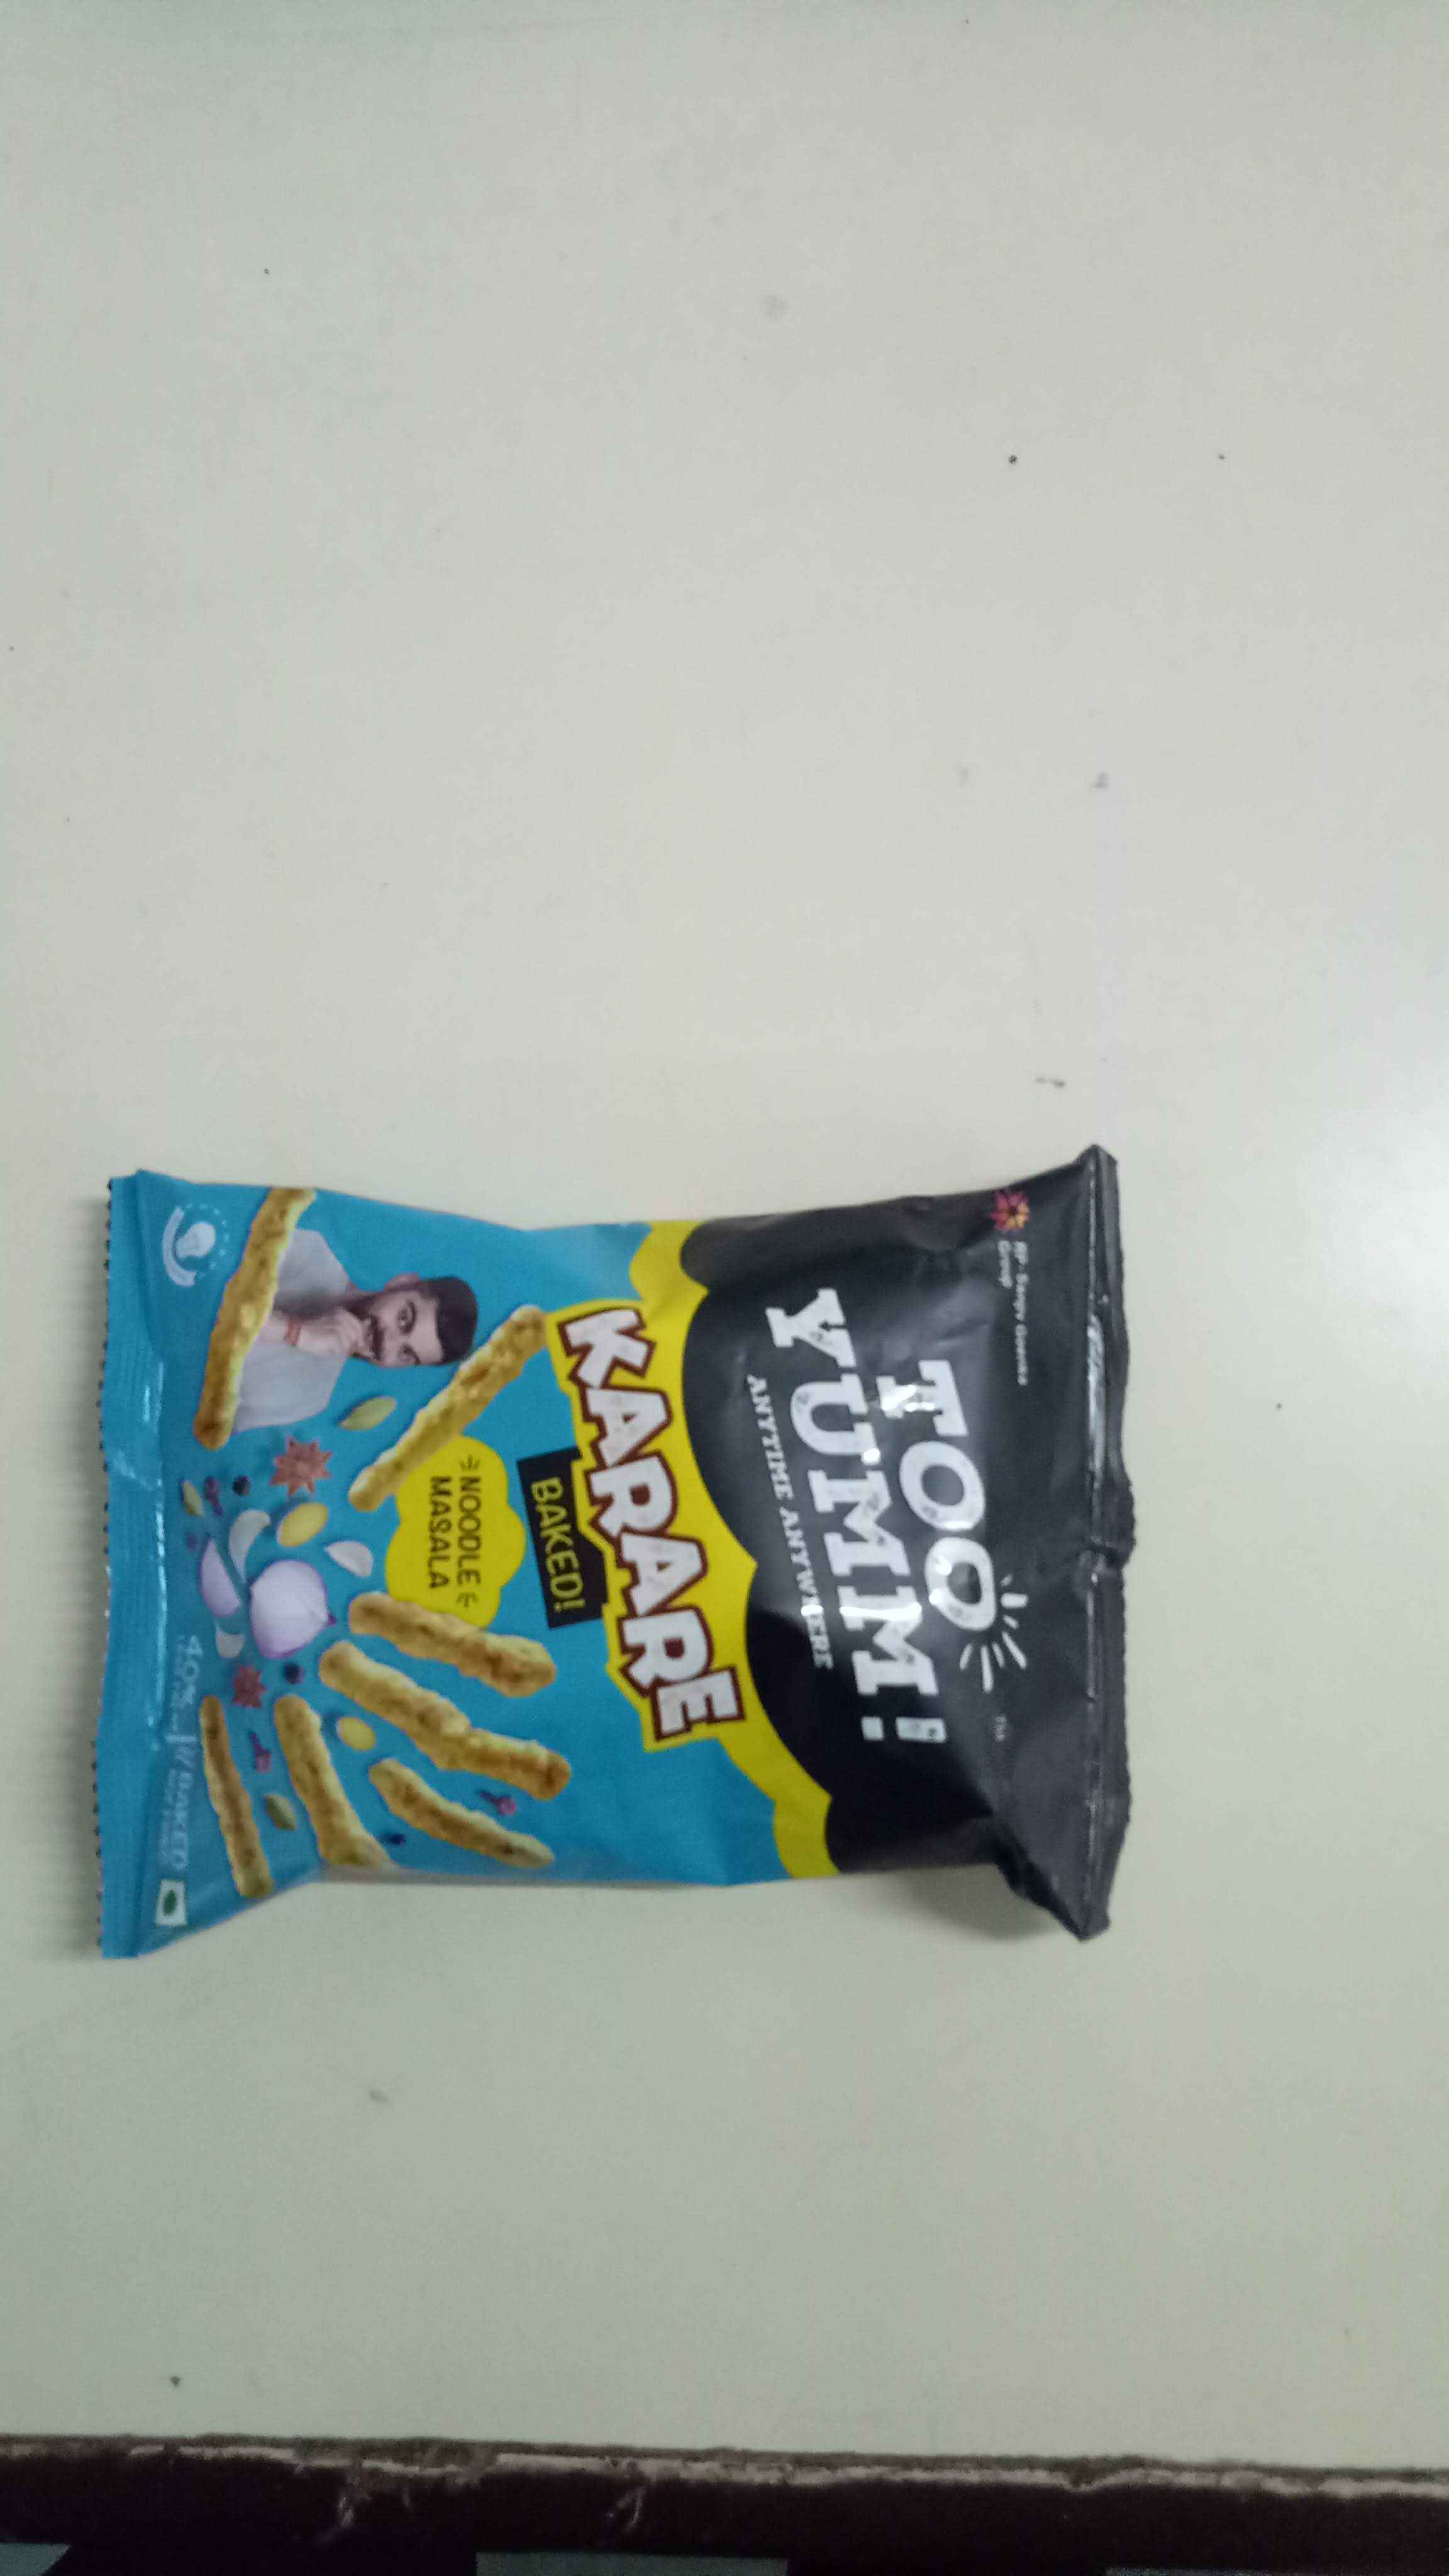tooyumm: (755, 1258, 1051, 1778)
